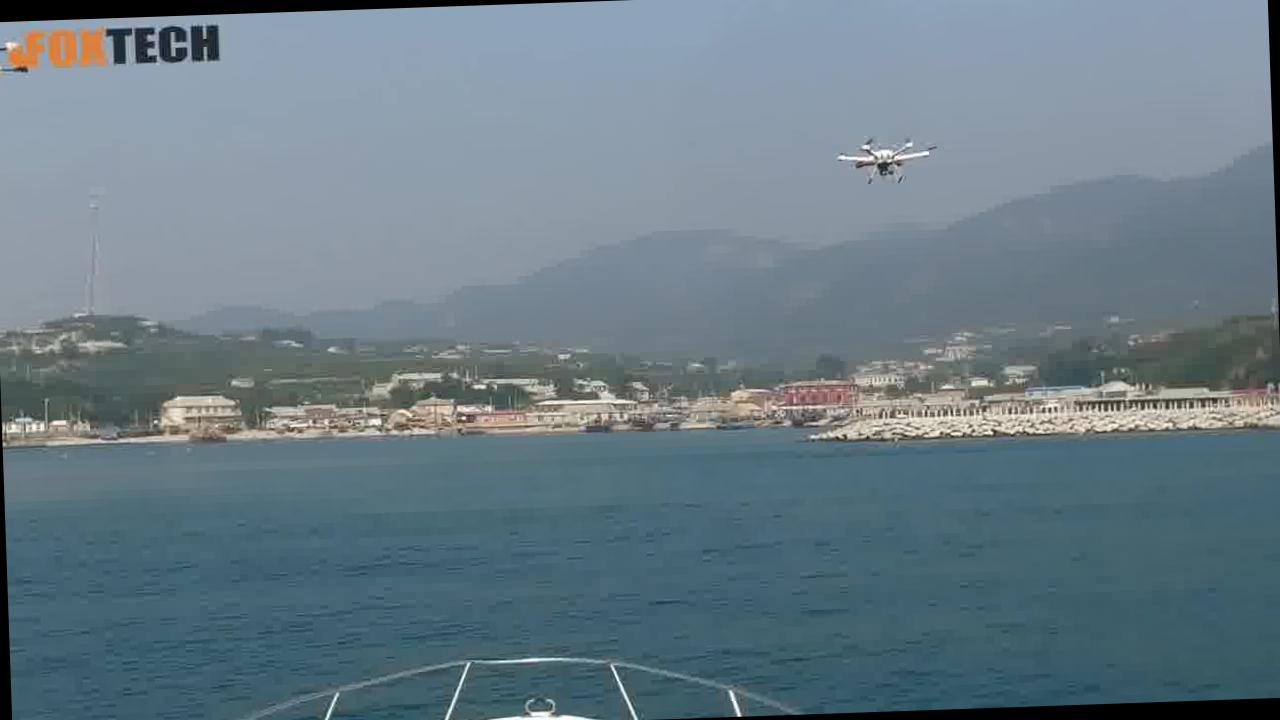drone: (830, 118, 944, 198)
